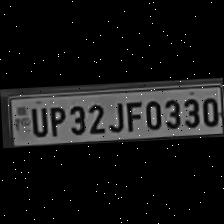0: (140, 96, 162, 128), (198, 93, 218, 125)
2: (84, 99, 104, 134)
3: (64, 100, 86, 134), (160, 94, 182, 128), (179, 93, 199, 126)
F: (121, 96, 141, 130)
J: (104, 97, 124, 131)
P: (44, 101, 64, 135)
U: (25, 102, 46, 136)
